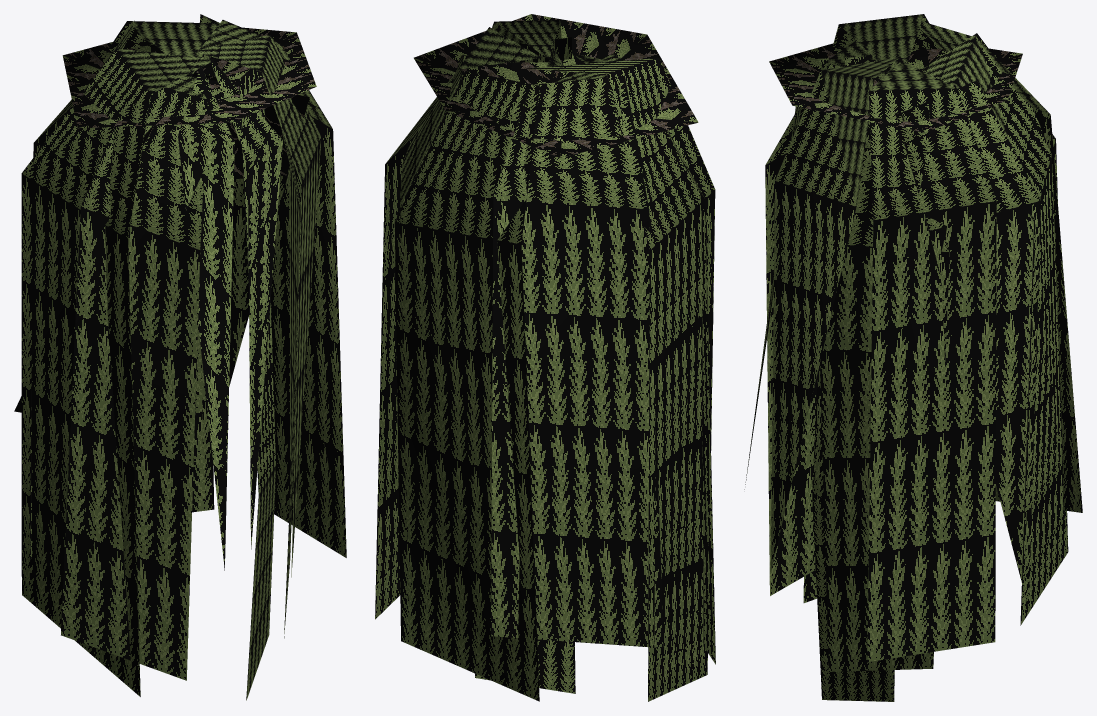
File: 3363IMIG14_06.gltf
The picture shows the model from 3 angles, left to right: view 1: azimuth 30°, elevation 25°; view 2: azimuth 150°, elevation 25°; view 3: azimuth 270°, elevation 25°; orthographic projection. The views are drawn at different scales.
Parts seen in each view (by area): view 1: 3363IMIG14_06; view 2: 3363IMIG14_06; view 3: 3363IMIG14_06.
Part boxes in pixels (bbox=[...]): 3363IMIG14_06: bbox=[14, 14, 346, 700]; 3363IMIG14_06: bbox=[375, 14, 715, 701]; 3363IMIG14_06: bbox=[744, 14, 1082, 701].
Bounding box in the file's own units: 2.26 × 4.89 × 2.32.
4 materials, 4 textured.
